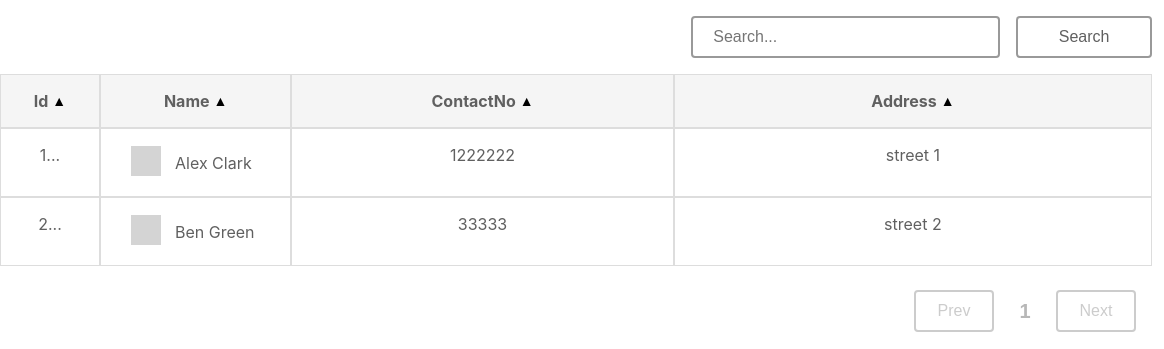
Scenario: Users Component › filters the users correctly
The width and height of the screenshot is (1164, 349).
Type "alex" into the field with placeholder "Search..." at (846, 37), box top-left (691, 16), bottom-right (1000, 58)
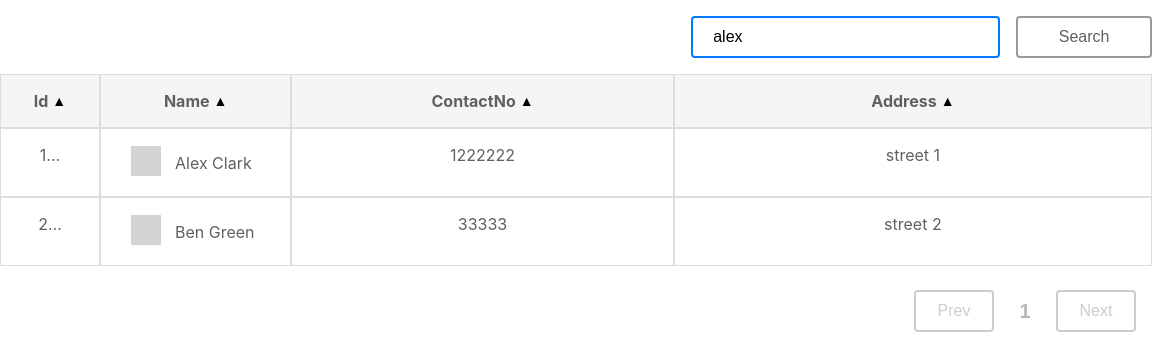
Click the button "Search" at (1084, 37), box top-left (1016, 16), bottom-right (1152, 58)
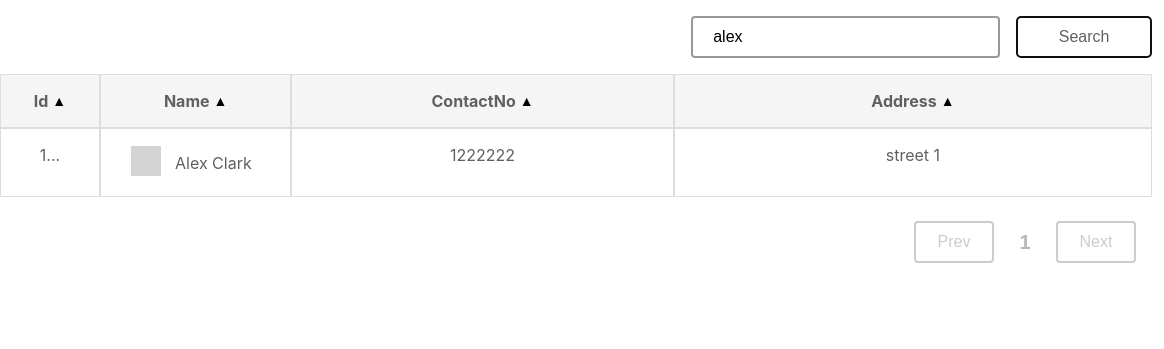
Expected: the text "Alex Clark" is shown, top-left (175, 150), bottom-right (252, 174)
Now the text "Ben" is gone
